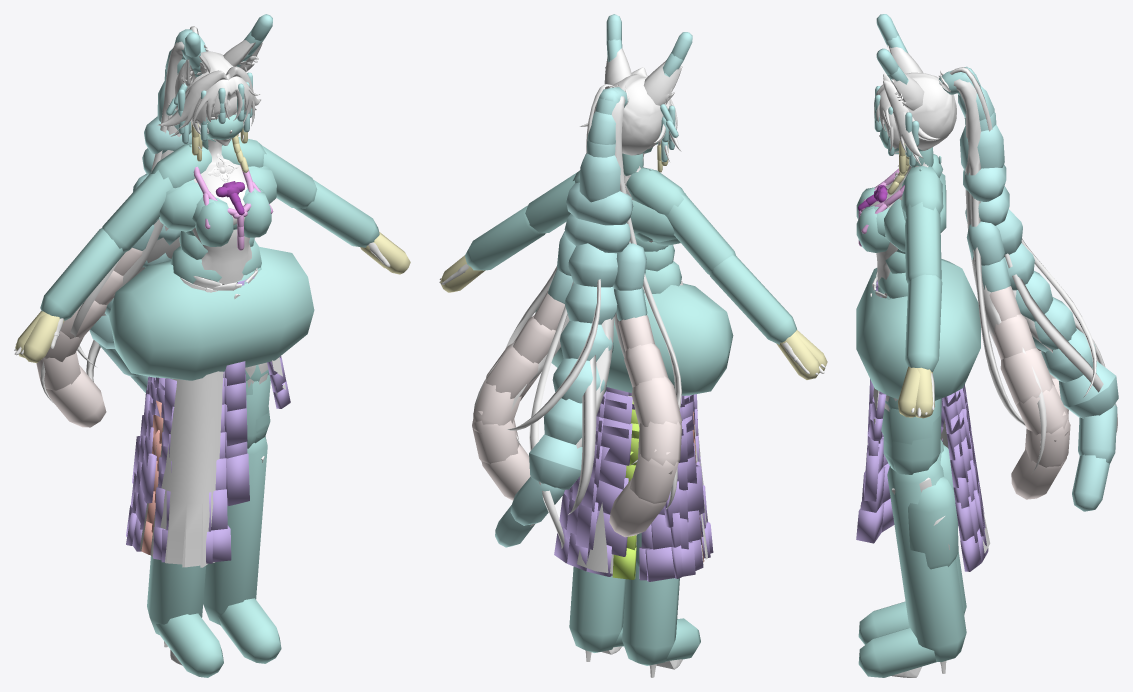
File: Fexiao.fbx
3 renders of one model, left to right at view 1: azimuth 30°, elevation 25°; view 2: azimuth 150°, elevation 25°; view 3: azimuth 270°, elevation 25°, orthographic. The views are drawn at different scales.
Parts seen in each view (by area): view 1: 星穹铁道—飞霄（无外套）_mesh, 08M_M-M-M-M-下半身, 00M_左ひざ, 00C_右ひじ, 00J_右ひざ, 00K_右足首, 00B_右腕, 00N_左足首, 00G_左ひじ, 060_M-上半身2, 071_右馬尾8, 00F_左腕 (+19 smaller); view 2: 星穹铁道—飞霄（无外套）_mesh, 08M_M-M-M-M-下半身, 00J_右ひざ, 00M_左ひざ, 00C_右ひじ, 00B_右腕, 00G_左ひじ, 06J_馬尾13, 06Y_右馬尾5, 06C_馬尾6, 00A_右肩, 071_右馬尾8 (+39 smaller); view 3: 星穹铁道—飞霄（无外套）_mesh, 08M_M-M-M-M-下半身, 00M_左ひざ, 052_左ひざ, 00G_左ひじ, 00N_左足首, 00F_左腕, 06J_馬尾13, 06Q_左馬尾5, 00L_左足, 06K_馬尾14, 06L_馬尾15 (+31 smaller).
Boxes of the visible parts, bbox=[...] form: 星穹铁道—飞霄（无外套）_mesh: bbox=[14, 26, 390, 665]; 08M_M-M-M-M-下半身: bbox=[109, 246, 314, 380]; 00M_左ひざ: bbox=[203, 436, 267, 625]; 00C_右ひじ: bbox=[40, 228, 125, 320]; 00J_右ひざ: bbox=[147, 556, 205, 634]; 00K_右足首: bbox=[156, 613, 223, 677]; 00B_右腕: bbox=[102, 170, 173, 252]; 00N_左足首: bbox=[217, 598, 281, 663]; 00G_左ひじ: bbox=[294, 180, 379, 247]; 060_M-上半身2: bbox=[159, 168, 276, 231]; 071_右馬尾8: bbox=[46, 365, 106, 427]; 00F_左腕: bbox=[261, 145, 317, 208]; 星穹铁道—飞霄（无外套）_mesh: bbox=[439, 48, 825, 677]; 08M_M-M-M-M-下半身: bbox=[535, 283, 733, 395]; 00J_右ひざ: bbox=[622, 565, 679, 665]; 00M_左ひざ: bbox=[569, 566, 625, 652]; 00C_右ひじ: bbox=[709, 255, 796, 344]; 00B_右腕: bbox=[664, 195, 735, 274]; 00G_左ひじ: bbox=[465, 205, 545, 270]; 06J_馬尾13: bbox=[529, 434, 582, 489]; 06Y_右馬尾5: bbox=[631, 376, 681, 427]; 06C_馬尾6: bbox=[566, 182, 633, 225]; 00A_右肩: bbox=[626, 167, 686, 214]; 071_右馬尾8: bbox=[609, 478, 666, 537]; 星穹铁道—飞霄（无外套）_mesh: bbox=[865, 45, 1117, 677]; 08M_M-M-M-M-下半身: bbox=[856, 259, 980, 400]; 00M_左ひざ: bbox=[887, 460, 966, 661]; 052_左ひざ: bbox=[908, 476, 958, 569]; 00G_左ひじ: bbox=[905, 274, 942, 371]; 00N_左足首: bbox=[858, 628, 936, 677]; 00F_左腕: bbox=[905, 202, 941, 284]; 06J_馬尾13: bbox=[1059, 361, 1118, 418]; 06Q_左馬尾5: bbox=[1000, 348, 1054, 404]; 00L_左足: bbox=[884, 398, 941, 474]; 06K_馬尾14: bbox=[1078, 403, 1117, 463]; 06L_馬尾15: bbox=[1072, 454, 1109, 511].
Bounding box in the file's own units: 119 × 186 × 70.02.
